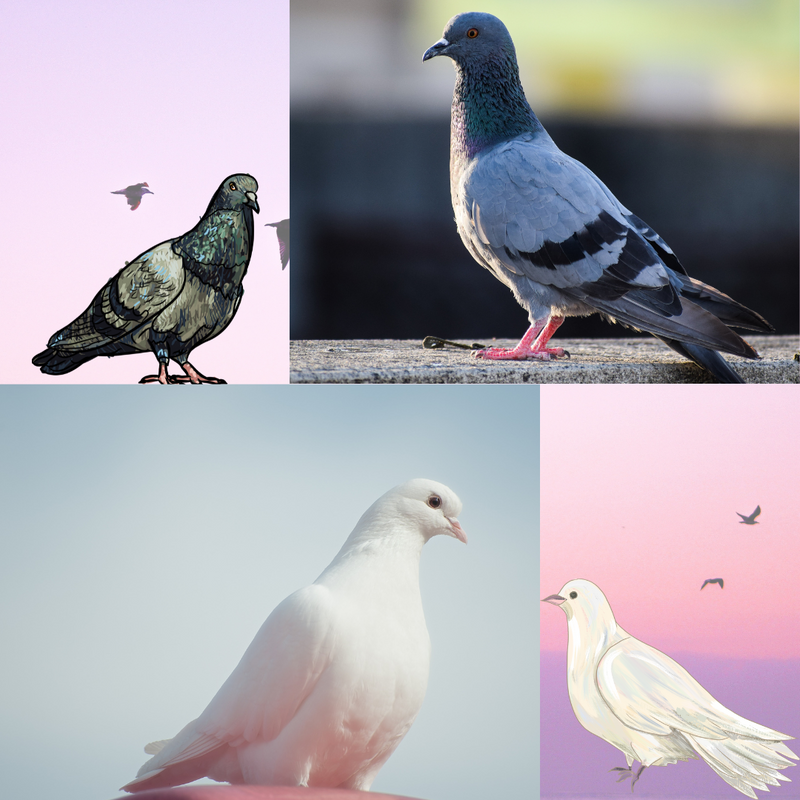Flying Rat: (415, 12, 734, 378), (132, 470, 471, 800), (537, 557, 777, 798), (30, 161, 261, 391)
